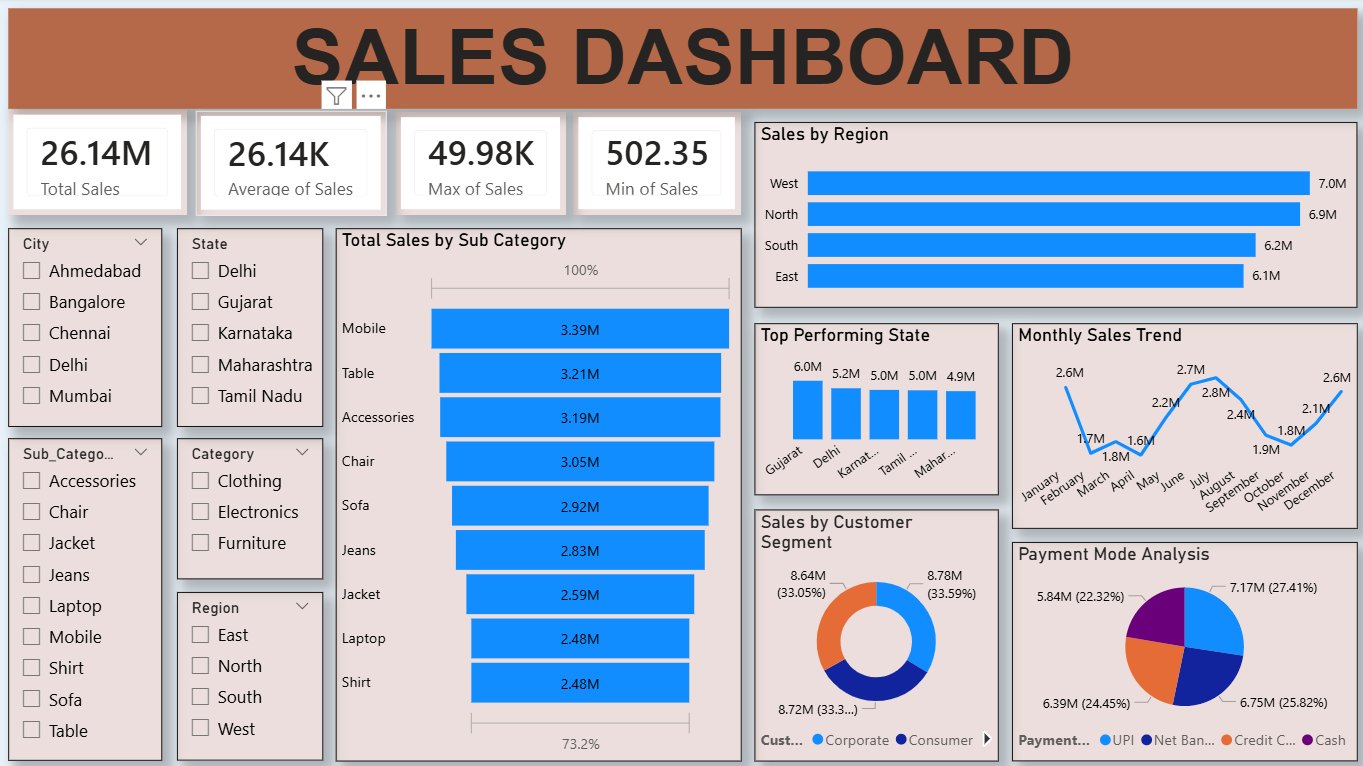

The dashboard page shown, as its layout file describes it:
{"tool":"powerbi","page":{"name":"Page 1","canvas":[1280,720],"ordinal":0},"visuals":[{"type":"barChart","title":"Sales by Region","fields":{"Category":["Sales_Data.Region"],"Y":["Sales_Data.Total_Sales"]},"box":[705,116.5,560.8,173.1],"z":0},{"type":"columnChart","title":"Top Performing State","fields":{"Category":["Sales_Data.State"],"Y":["Sales_Data.Total_Sales"]},"box":[705,303.5,227.3,160.4],"z":1000},{"type":"lineChart","title":"Monthly Sales Trend","fields":{"Category":["Sales_Data.Order_Date.Variation.Date Hierarchy.Month"],"Y":["Sales_Data.Total_Sales"]},"box":[943.8,303.5,321.9,191.5],"z":3000},{"type":"donutChart","title":"Sales by Customer Segment","fields":{"Category":["Sales_Data.Customer_Segment"],"Y":["Sales_Data.Total_Sales"]},"box":[705,476.5,227.3,234.2],"z":4000},{"type":"pieChart","title":"Payment Mode Analysis","fields":{"Y":["Sales_Data.Total_Sales"],"Category":["Sales_Data.Payment_Mode"]},"box":[943.8,506.5,321.9,204.2],"z":5000},{"type":"textbox","box":[10.3,10.3,1255.6,93.8],"z":6000},{"type":"cardVisual","fields":{"Data":["Sales_Data.Total_Sales"]},"box":[10.4,105,166.2,98.1],"z":7000},{"type":"cardVisual","fields":{"Data":["Avg(Sales_Data.Sales)"]},"box":[184.9,105.8,177.9,97.7],"z":8000},{"type":"slicer","fields":{"Values":["Sales_Data.Category"]},"box":[167.3,410.8,136.2,131.5],"z":9000},{"type":"slicer","fields":{"Values":["Sales_Data.City"]},"box":[10.4,214.6,143.1,184.6],"z":10000},{"type":"slicer","fields":{"Values":["Sales_Data.State"]},"box":[167.3,214.6,136.2,184.6],"z":11000},{"type":"slicer","fields":{"Values":["Sales_Data.Region"]},"box":[167.1,553.9,136.2,156.8],"z":12000},{"type":"slicer","fields":{"Values":["Sales_Data.Sub_Category"]},"box":[10.4,410.8,143.1,300],"z":13000},{"type":"funnel","title":"Total Sales by Sub Category","fields":{"Y":["Sales_Data.Total_Sales"],"Category":["Sales_Data.Sub_Category"]},"box":[315,214.6,377.3,496.2],"z":14000},{"type":"cardVisual","fields":{"Data":["Max(Sales_Data.Sales)"]},"box":[370.4,107.3,158.1,95.8],"z":15000},{"type":"cardVisual","fields":{"Data":["Min(Sales_Data.Sales)"]},"box":[536.5,107.3,155.8,95.8],"z":16000}]}

Visuals, with their boxes in screenshot pixels (x1, y1, x2, y2), scaled from the page's 1280x720 canvas onto the 1363x766 screenshot:
"Sales by Region" barChart: x1=751 y1=124 x2=1348 y2=308
"Top Performing State" columnChart: x1=751 y1=323 x2=993 y2=494
"Monthly Sales Trend" lineChart: x1=1005 y1=323 x2=1348 y2=527
"Sales by Customer Segment" donutChart: x1=751 y1=507 x2=993 y2=756
"Payment Mode Analysis" pieChart: x1=1005 y1=539 x2=1348 y2=756
textbox: x1=11 y1=11 x2=1348 y2=111
cardVisual - Sales_Data.Total_Sales: x1=11 y1=112 x2=188 y2=216
cardVisual - Avg(Sales_Data.Sales): x1=197 y1=113 x2=386 y2=217
slicer - Sales_Data.Category: x1=178 y1=437 x2=323 y2=577
slicer - Sales_Data.City: x1=11 y1=228 x2=163 y2=425
slicer - Sales_Data.State: x1=178 y1=228 x2=323 y2=425
slicer - Sales_Data.Region: x1=178 y1=589 x2=323 y2=756
slicer - Sales_Data.Sub_Category: x1=11 y1=437 x2=163 y2=756
"Total Sales by Sub Category" funnel: x1=335 y1=228 x2=737 y2=756
cardVisual - Max(Sales_Data.Sales): x1=394 y1=114 x2=563 y2=216
cardVisual - Min(Sales_Data.Sales): x1=571 y1=114 x2=737 y2=216
